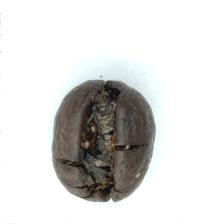NG: (74, 87, 130, 196)
